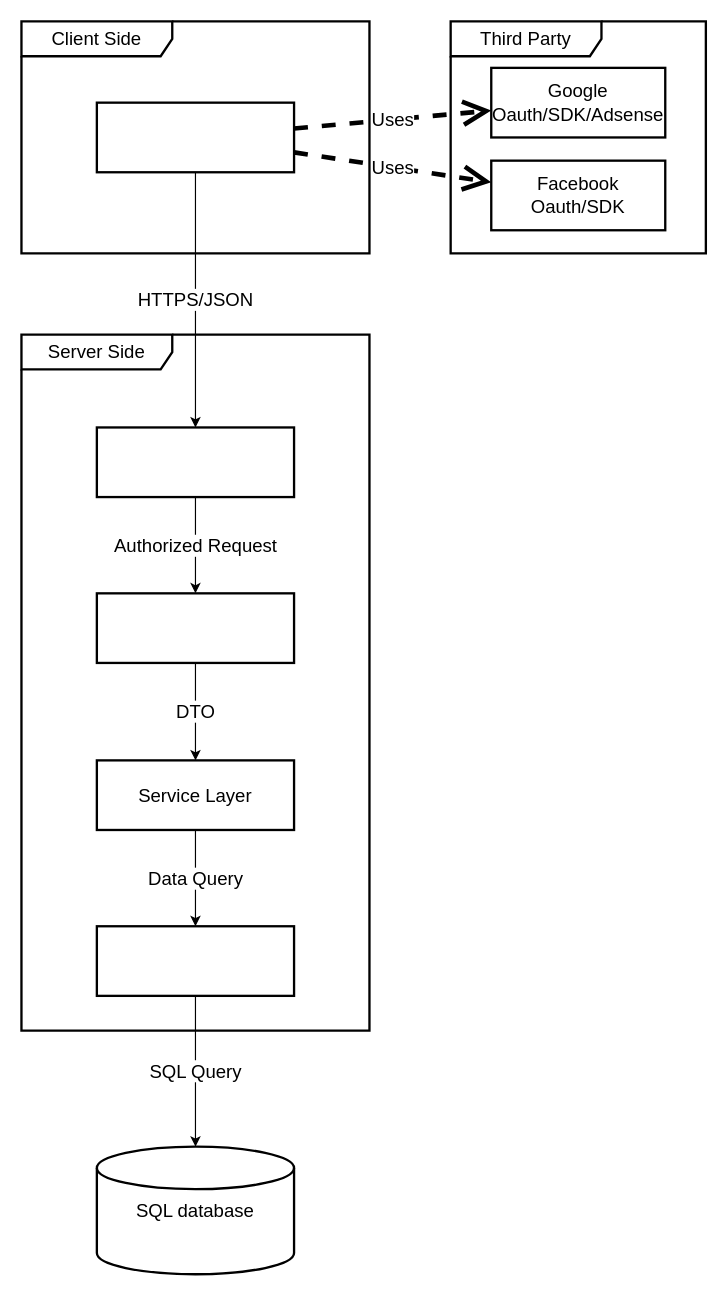
Some shapes in this 726 by 1295 pixel diagram are drawn without their labels. Each missing label, with the centre of its shape:
ReactJS app (Vite + AntD): the point at 195,137
Repository: the point at 195,960
RestController: the point at 195,628
Spring Security / JWT filter: the point at 195,462
